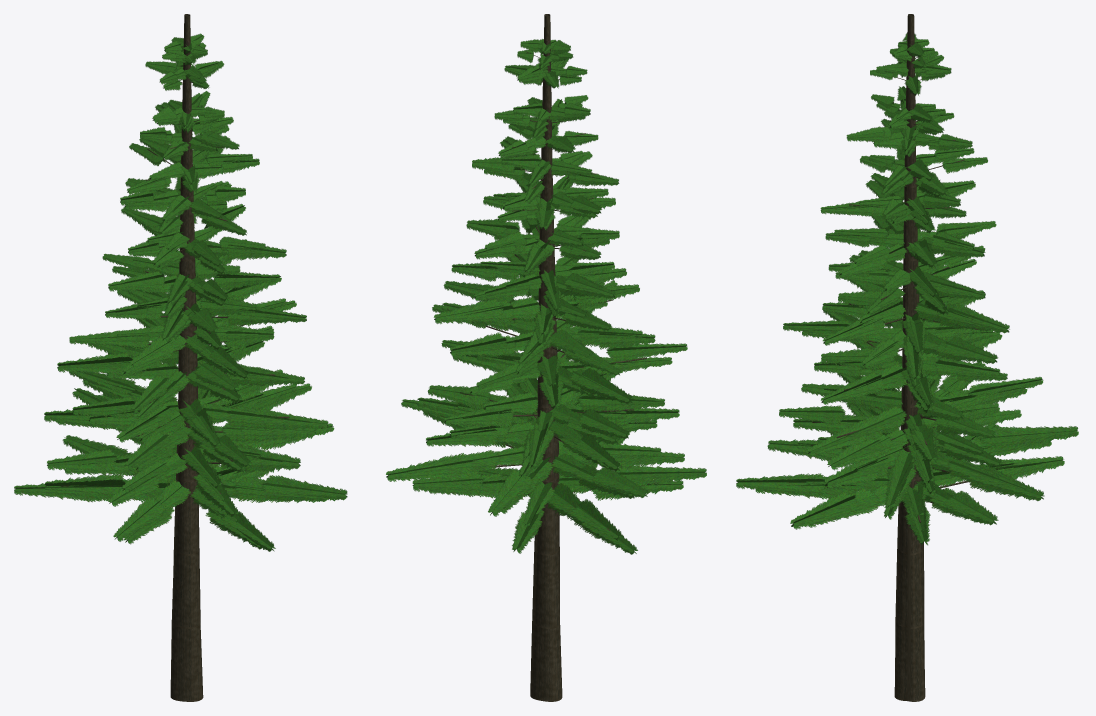
File: redwood.glb
The picture shows the model from 3 angles, left to right: view 1: azimuth 30°, elevation 25°; view 2: azimuth 150°, elevation 25°; view 3: azimuth 270°, elevation 25°; orthographic projection.
Visible parts, largest first — view 1: Leaf needle cutouts, Bark ridges; view 2: Leaf needle cutouts, Bark ridges; view 3: Leaf needle cutouts, Bark ridges.
Boxes of the visible parts, <box> form: Leaf needle cutouts: <box>14,33,347,551</box>; Bark ridges: <box>61,14,303,701</box>; Leaf needle cutouts: <box>386,39,706,554</box>; Bark ridges: <box>460,14,658,701</box>; Leaf needle cutouts: <box>736,33,1078,545</box>; Bark ridges: <box>811,14,986,701</box>.
Bounding box in the file's own units: 11.79 × 28 × 12.9.
Materials: 2 (2 with a texture image).
